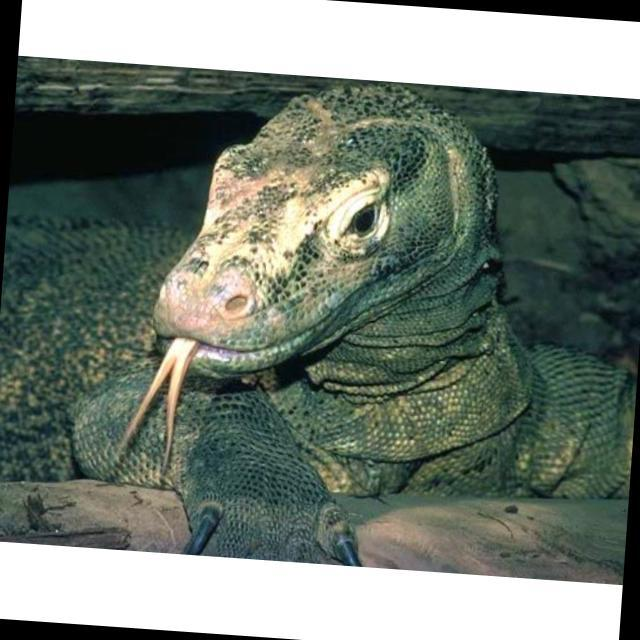KomodoDragon: (0, 55, 640, 582)
